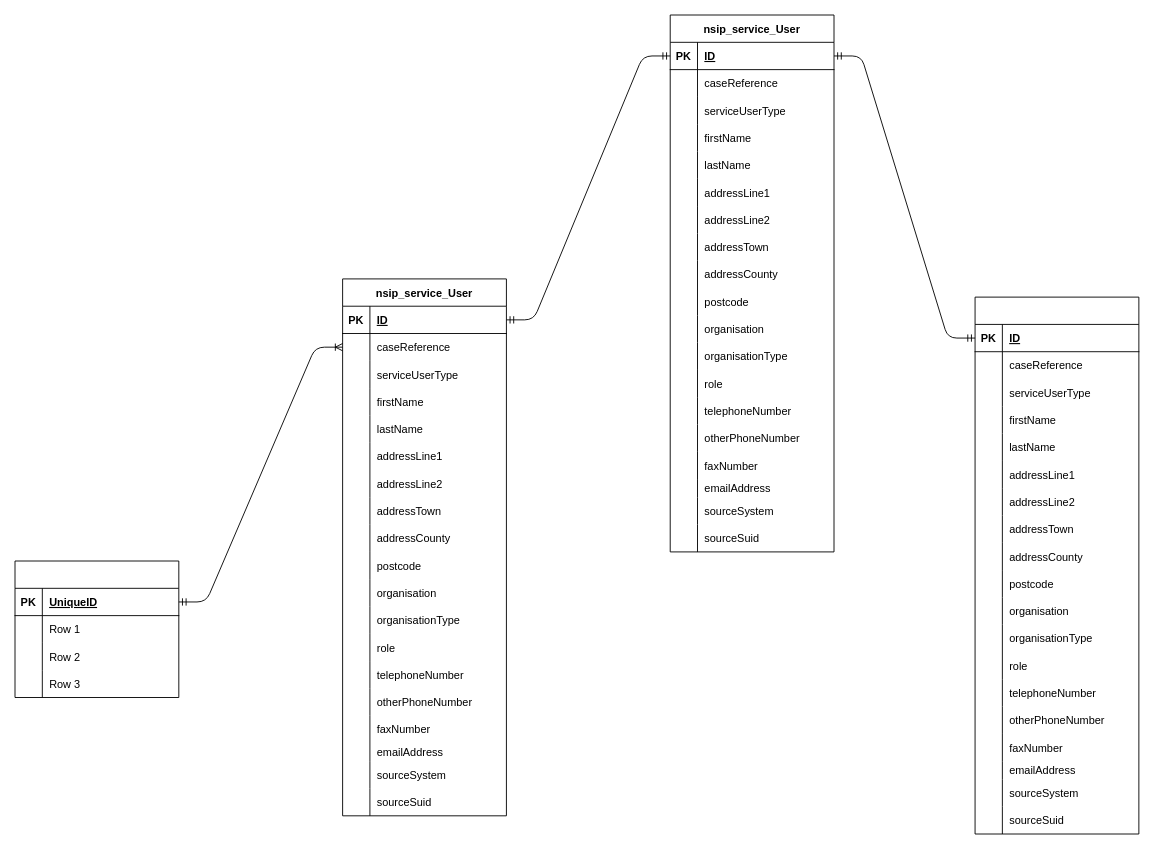
Image size: 1154x849. Some labels were removed from this diagram. The box of each missing label's shape, as (x1, y1, x2, y2) in pixels:
appeal_service_User: (974, 296, 1139, 834)
nsip_project: (14, 560, 179, 698)
